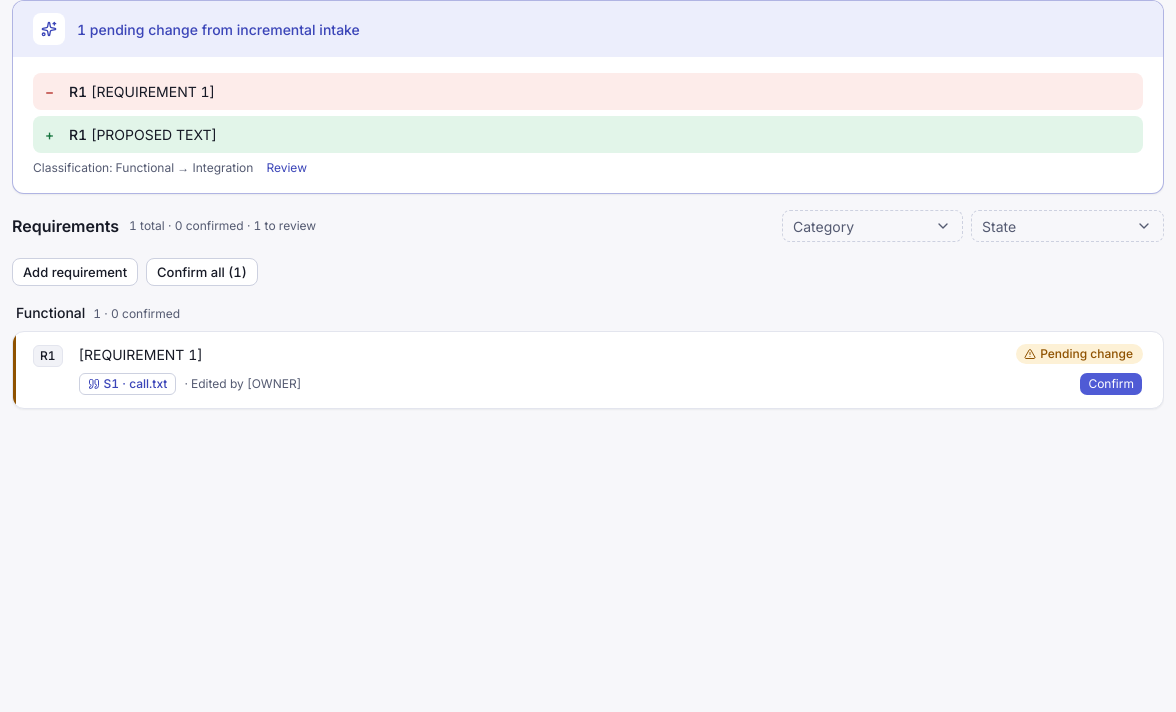
Test: a Requirement with a pending change › a change someone else decided first reloads the list and says so
This screenshot has width=1176, height=712.
Click the button "[REQUIREMENT 1]" at (141, 354), box [79,344,1000,365]
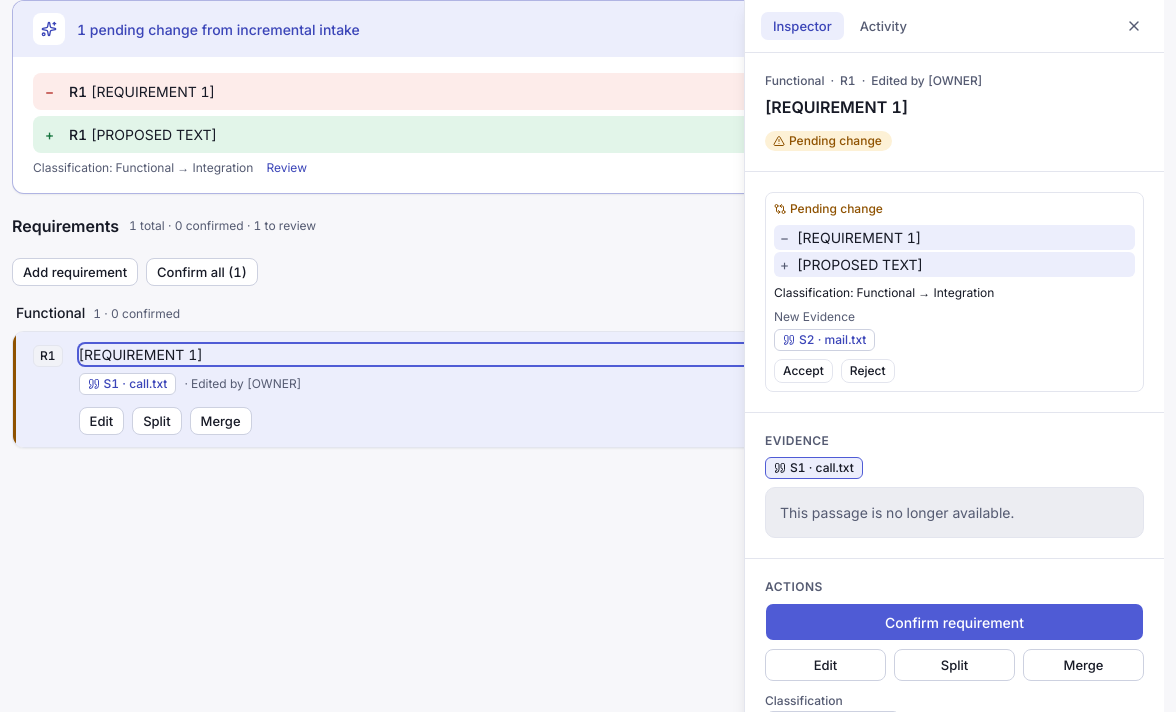
Click the button "Accept" at (803, 371), box [774,359,833,383]
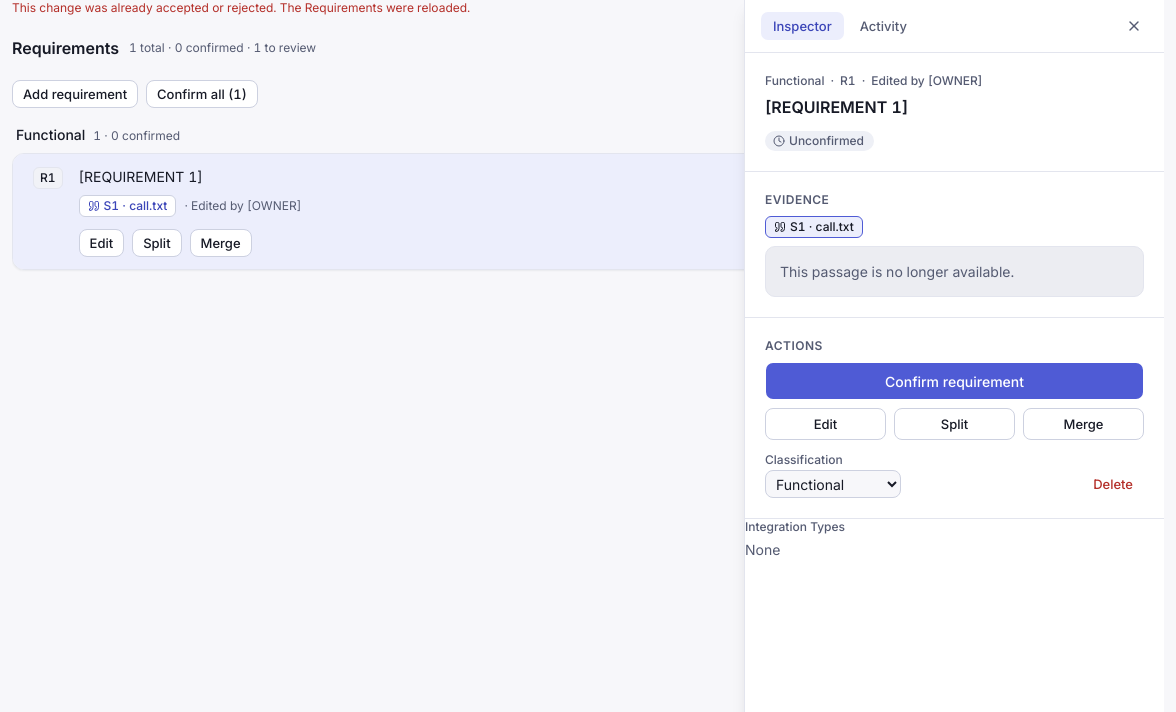
Check: the text "This change was already accepted or rejected. The Requirements were reloaded." is shown, box [12,0,470,15]
Check: the element with test id "pending-change" is gone
